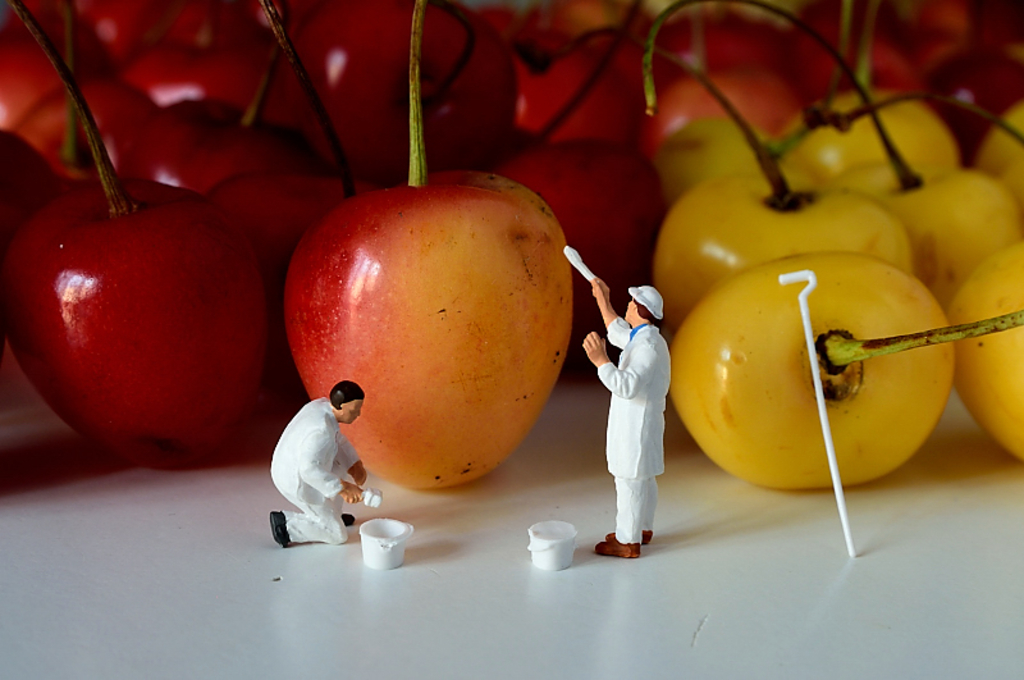Apple: (279, 162, 595, 482)
